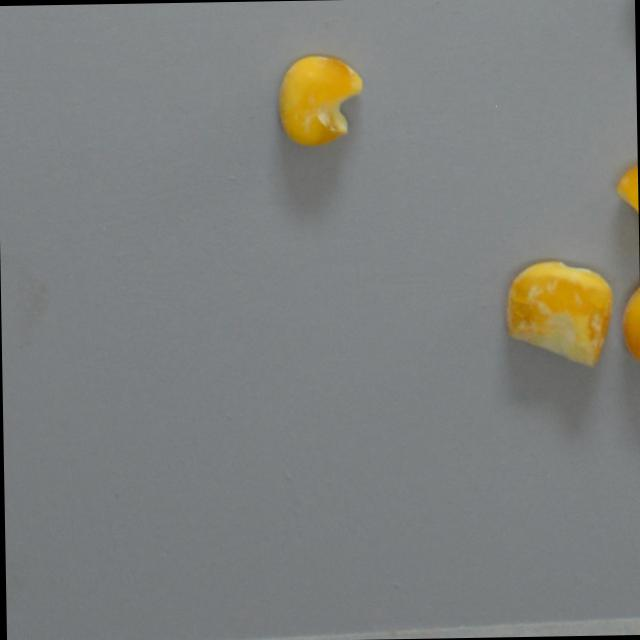no_canjicado: (613, 158, 639, 256)
pelicula: (502, 259, 614, 370), (275, 53, 365, 147), (620, 262, 640, 380)
